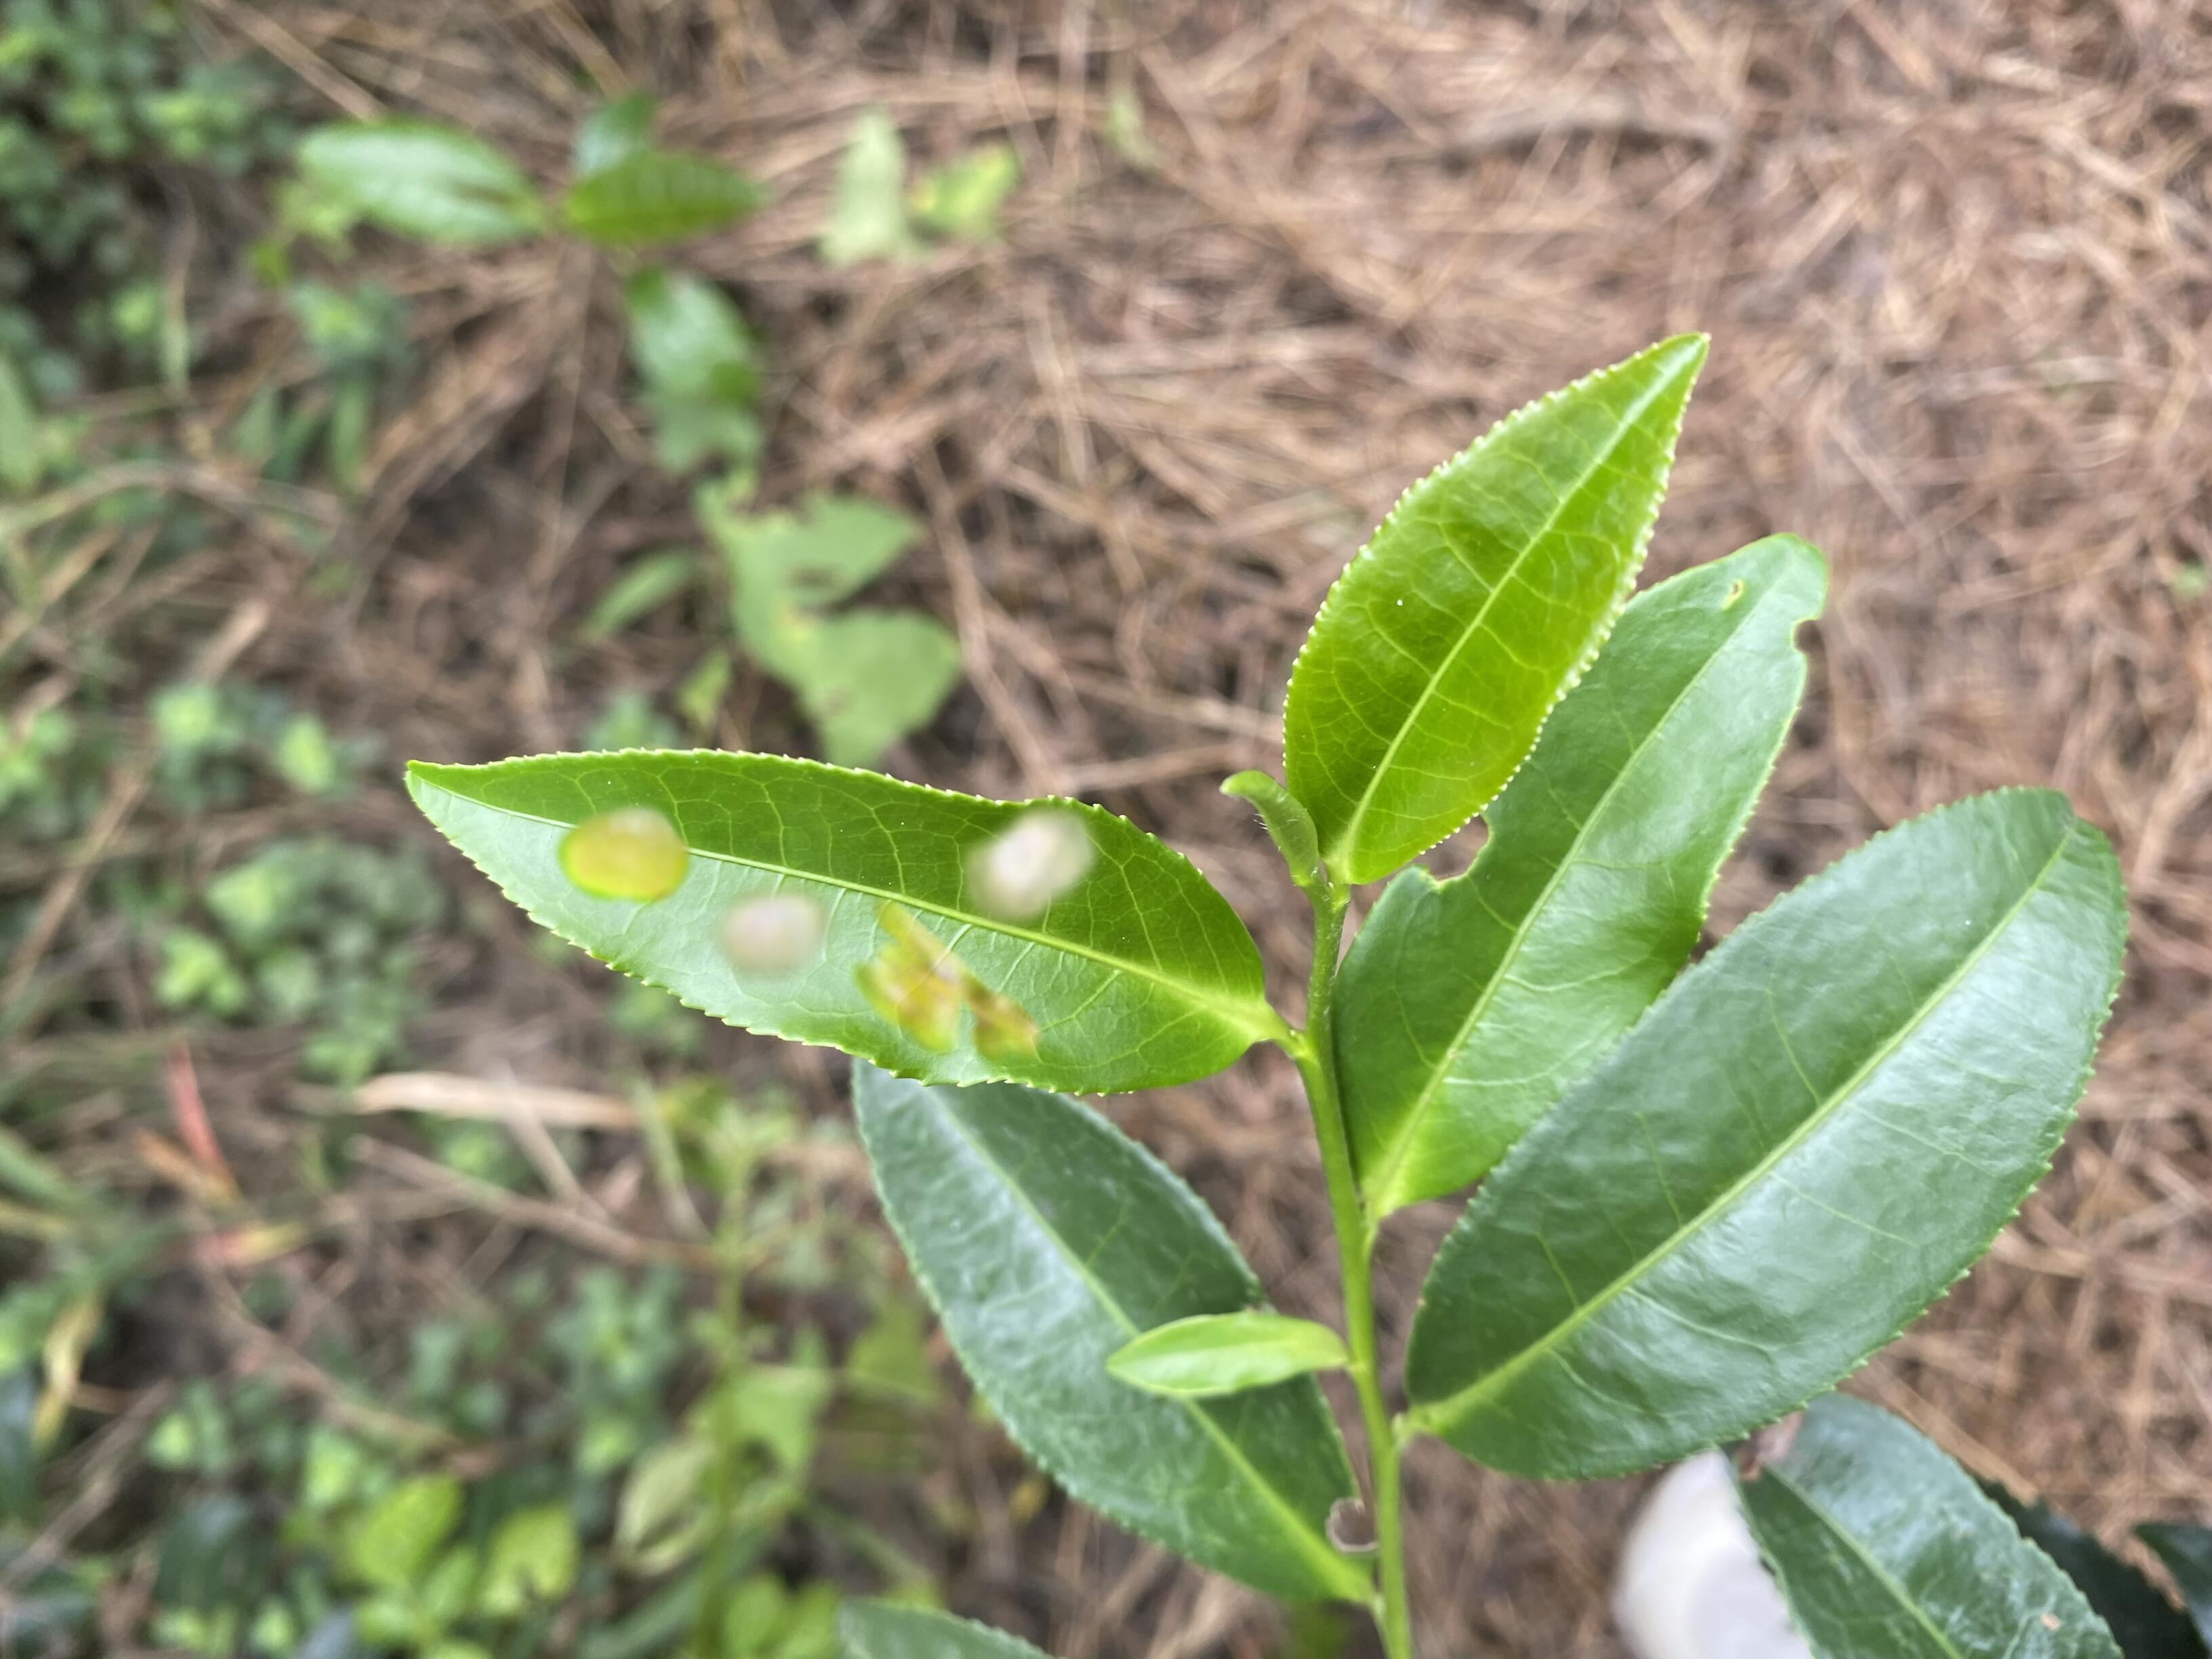chabing_high: (402, 748, 1277, 1098)
chihuo_high: (1338, 533, 1836, 1209)
chihuo_low: (846, 1056, 1379, 1603)
healthy: (1407, 781, 2132, 1490), (1280, 335, 1710, 894), (1109, 1309, 1345, 1401)
